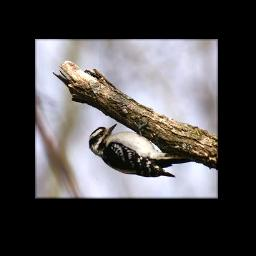Woodpecker: (82, 121, 195, 182)
